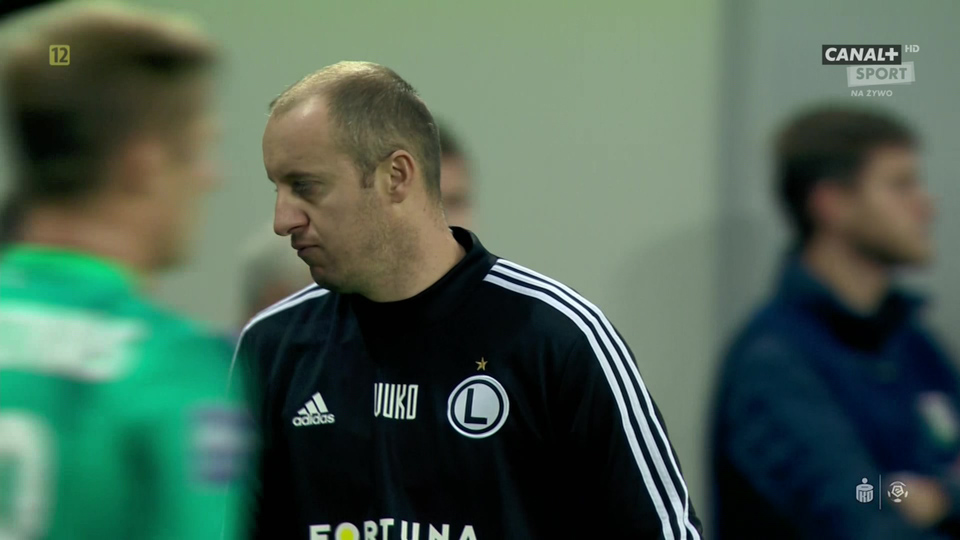Adidas: (291, 390, 336, 425)
